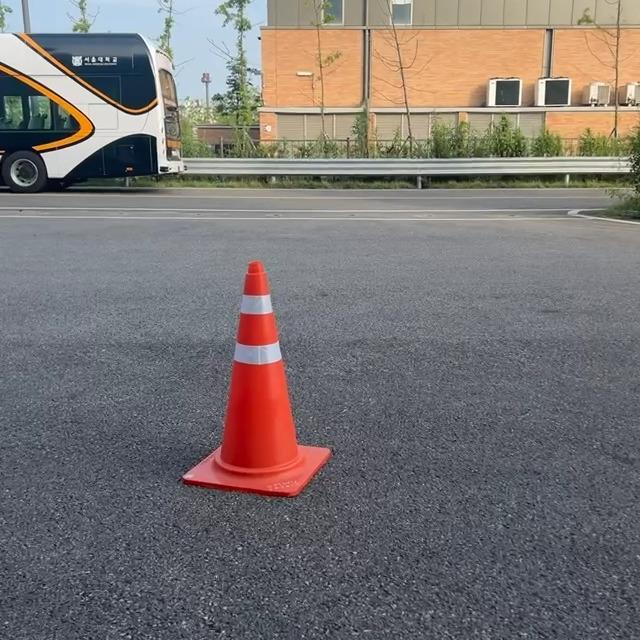fallen_object: (152, 242, 406, 537)
